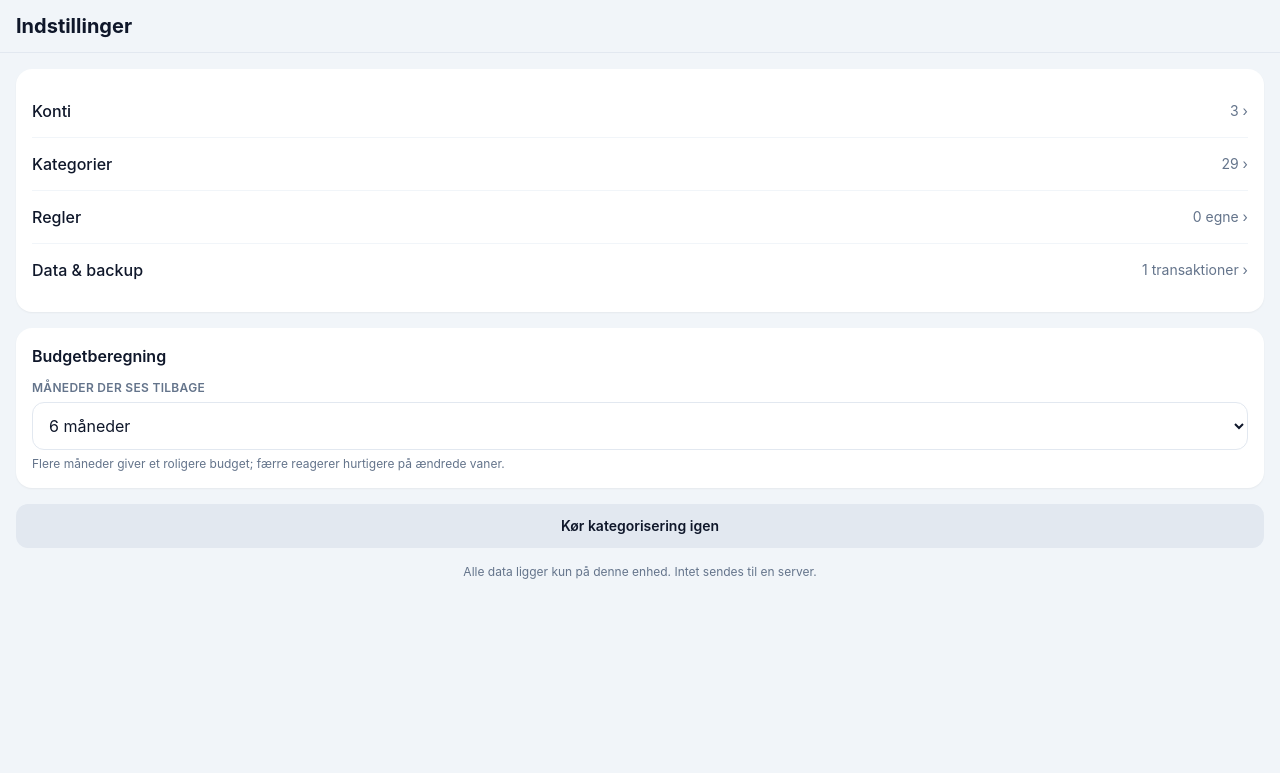
Test case: editing a category › will not let a system category change type
The width and height of the screenshot is (1280, 773).
Click the button "Kategorier 29 ›": point(72, 164) [32,137,1248,190]
(page scrolled)
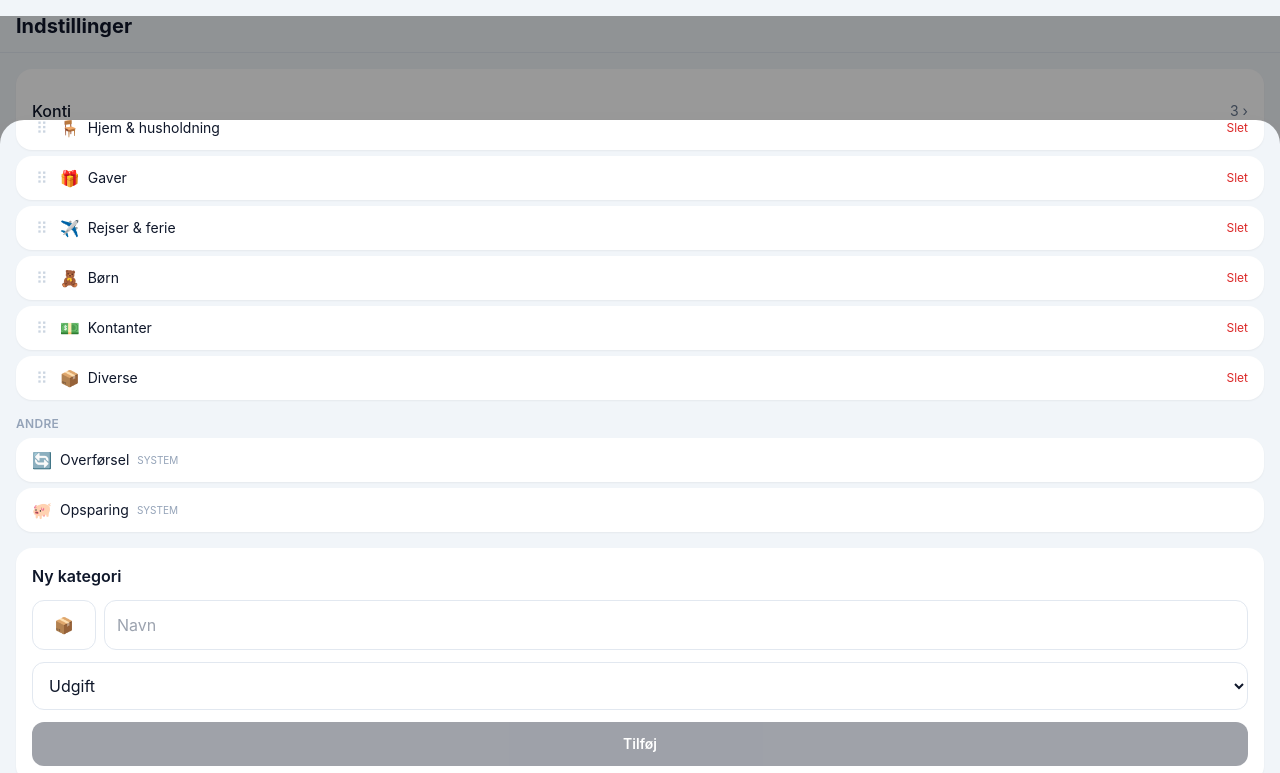
Click the button "🔄 Overførsel SYSTEM": point(95, 460) [32,448,1248,472]
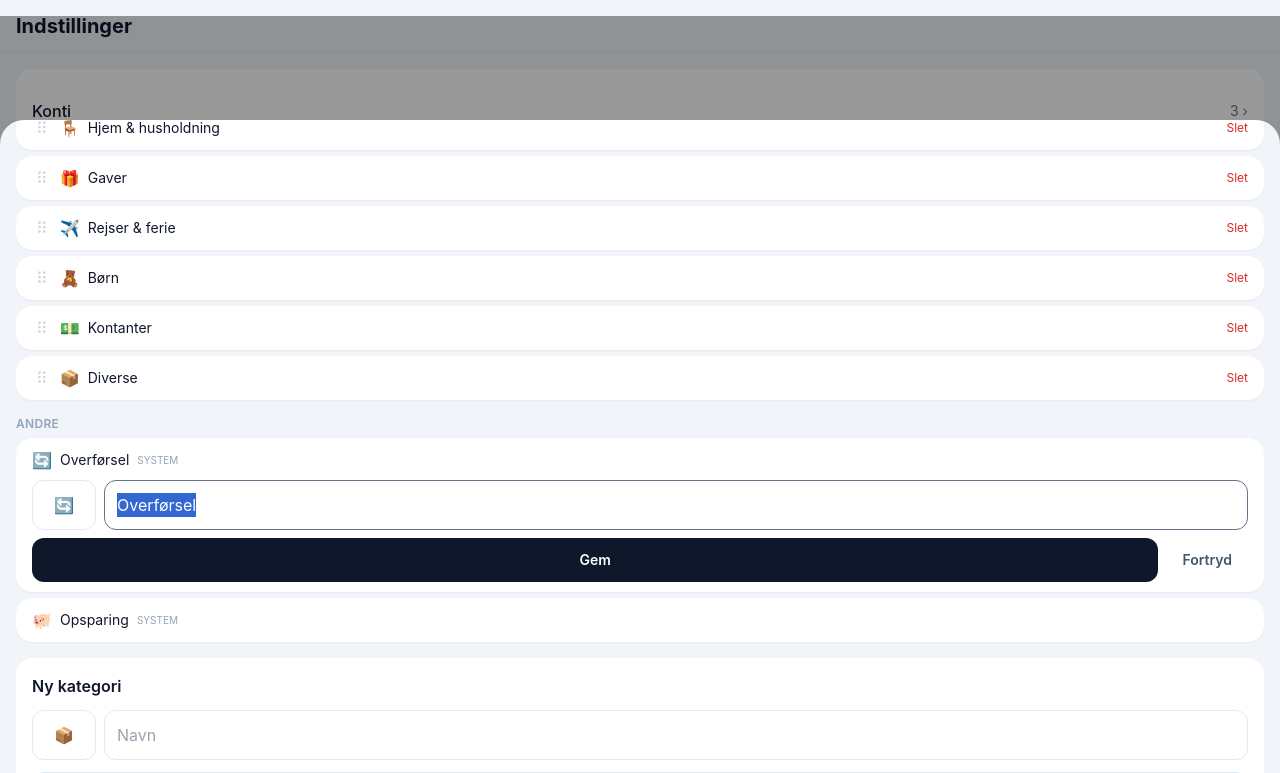
Now the field named "Navn på Overførsel" is shown, box [104,480,1248,530]
